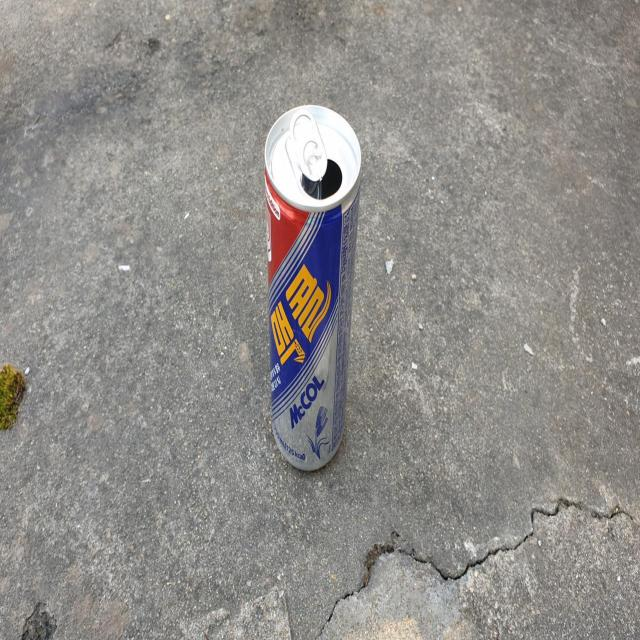can: (265, 104, 361, 470)
